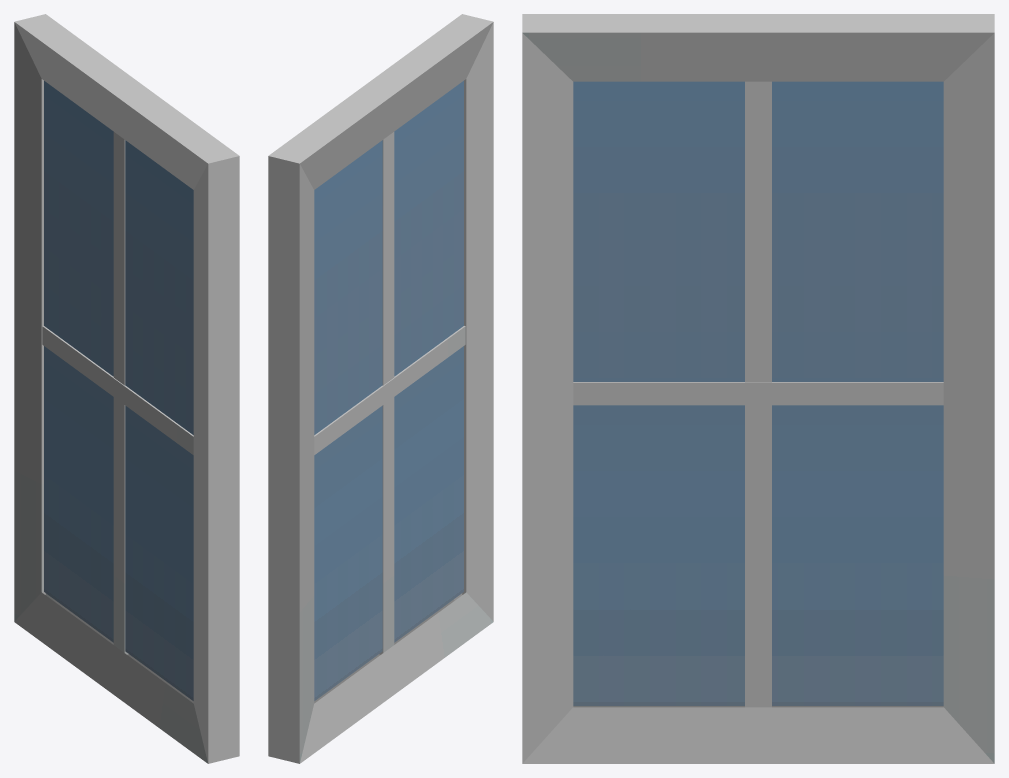
File: door.glb
3 renders of one model, left to right at view 1: azimuth 30°, elevation 25°; view 2: azimuth 150°, elevation 25°; view 3: azimuth 270°, elevation 25°, orthographic. The views are drawn at different scales.
Visible parts, largest first — view 1: node-0; view 2: node-0; view 3: node-0.
Part boxes in pixels (x1,y1,x2,y2): node-0: [14, 14, 239, 763]; node-0: [268, 14, 493, 763]; node-0: [522, 14, 994, 763].
Size of the model in its own units: 0.1258 by 2.29 by 1.34.
Materials: 1 (1 with a texture image).
